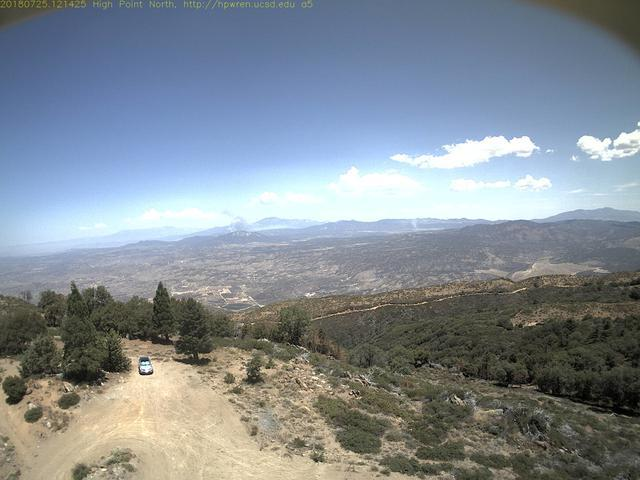smoke: (217, 206, 257, 238)
